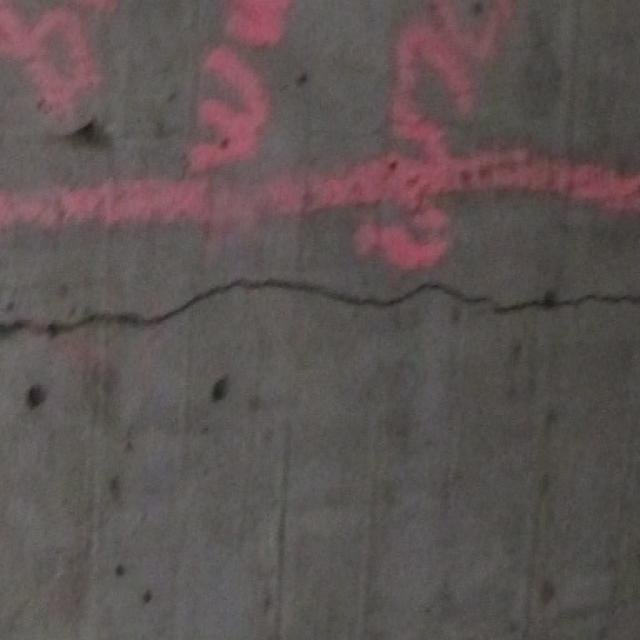Transverse: (0, 275, 640, 337)
